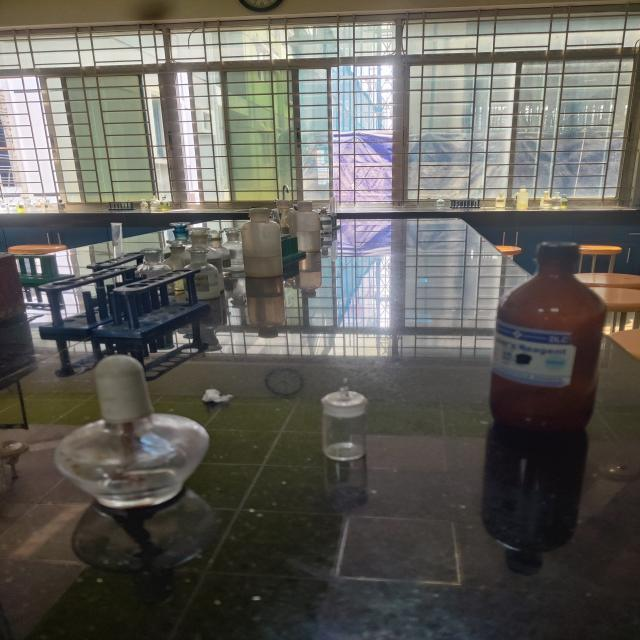Nessler_Reagent_Bottle: (461, 235, 625, 458)
Spirit_Lamp: (32, 338, 241, 540)
Weighing_Bottle: (308, 348, 392, 482)
